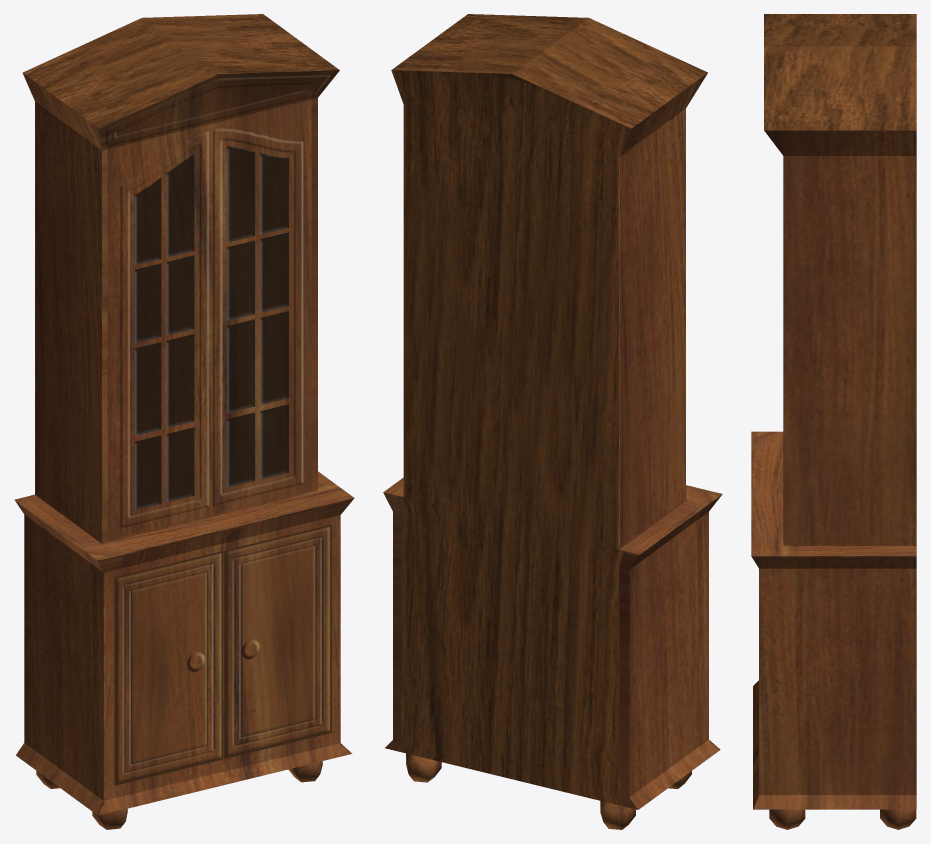
The model's file is HighShelf_vi.fbx.
3 renders of one model, left to right at view 1: azimuth 30°, elevation 25°; view 2: azimuth 150°, elevation 25°; view 3: azimuth 270°, elevation 25°, orthographic.
Visible parts, largest first — view 1: ShelfHigh; view 2: ShelfHigh; view 3: ShelfHigh.
Part boxes in pixels (bbox=[...]): ShelfHigh: bbox=[14, 14, 354, 829]; ShelfHigh: bbox=[383, 14, 722, 829]; ShelfHigh: bbox=[751, 14, 916, 829].
Size of the model in its own units: 0.0136 by 0.0372 by 0.00764.
Materials: 1 (1 with a texture image).
